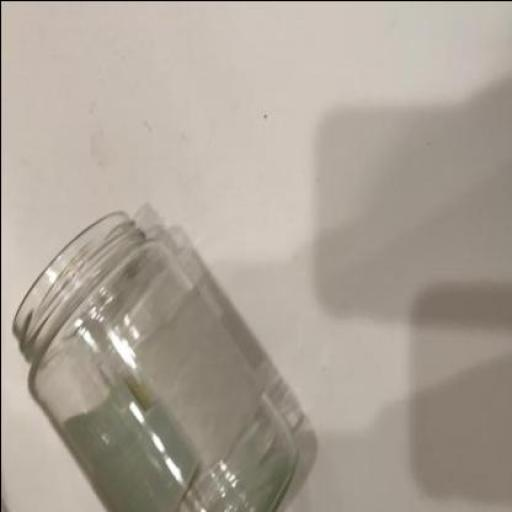glass: (10, 209, 298, 511)
